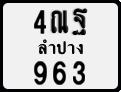letters: (50, 9, 69, 34), (72, 8, 88, 37), (51, 59, 67, 86), (32, 60, 47, 86), (71, 60, 86, 86), (32, 9, 47, 34)
province: (37, 39, 85, 56)
